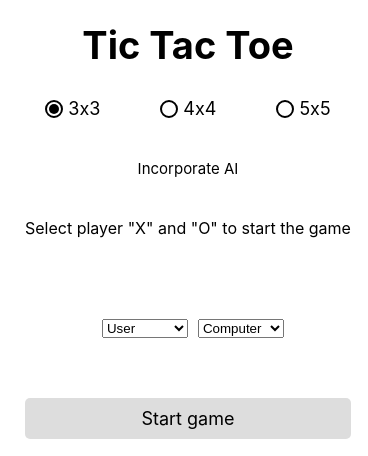
Scenario: <Game /> › should simulate a tie game between human and computer
Step 1. Click the element with test id "startGameBtnTestId" → (188, 418), box x1=25 y1=398 x2=351 y2=439
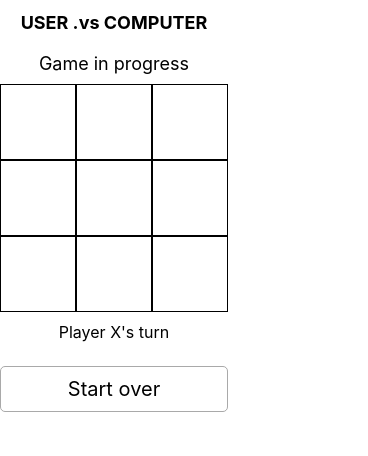
# human's move
Step 2. Click the element with test id "01" → (38, 198), box x1=0 y1=160 x2=76 y2=236
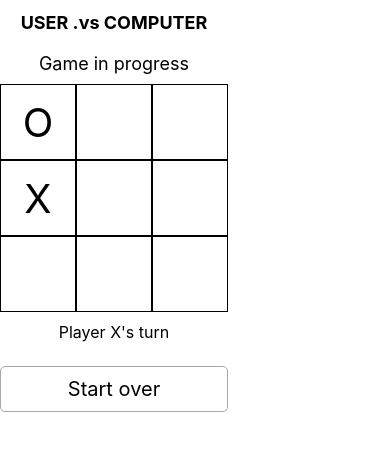
# human's move
Step 3. Click the element with test id "02" → (38, 274), box x1=0 y1=236 x2=76 y2=312
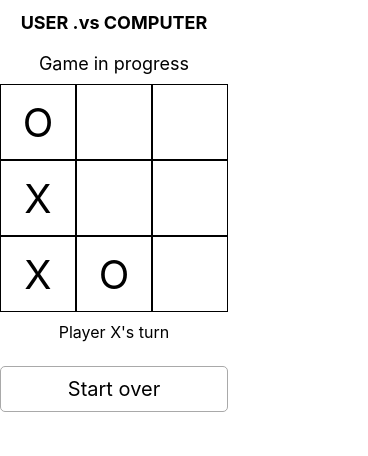
# human's move
Step 4. Click the element with test id "10" → (114, 122), box x1=76 y1=84 x2=152 y2=160
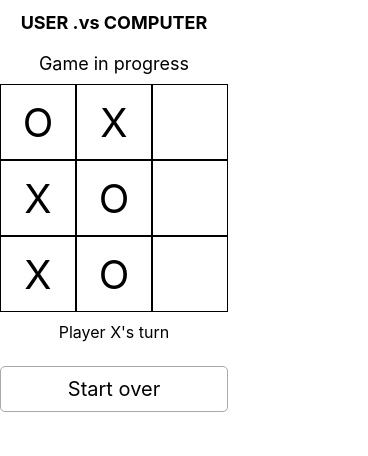
# human's move
Step 5. Click the element with test id "21" → (190, 198), box x1=152 y1=160 x2=228 y2=236
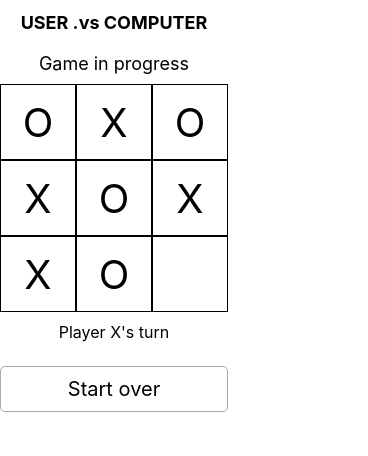
# human's move
Step 6. Click the element with test id "22" → (190, 274), box x1=152 y1=236 x2=228 y2=312
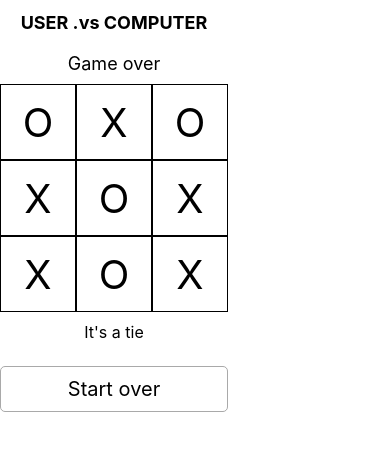
Expected: the text "Game over" is shown, x1=68 y1=53 x2=160 y2=74
Expected: the text "It's a tie" is shown, x1=84 y1=322 x2=144 y2=342
